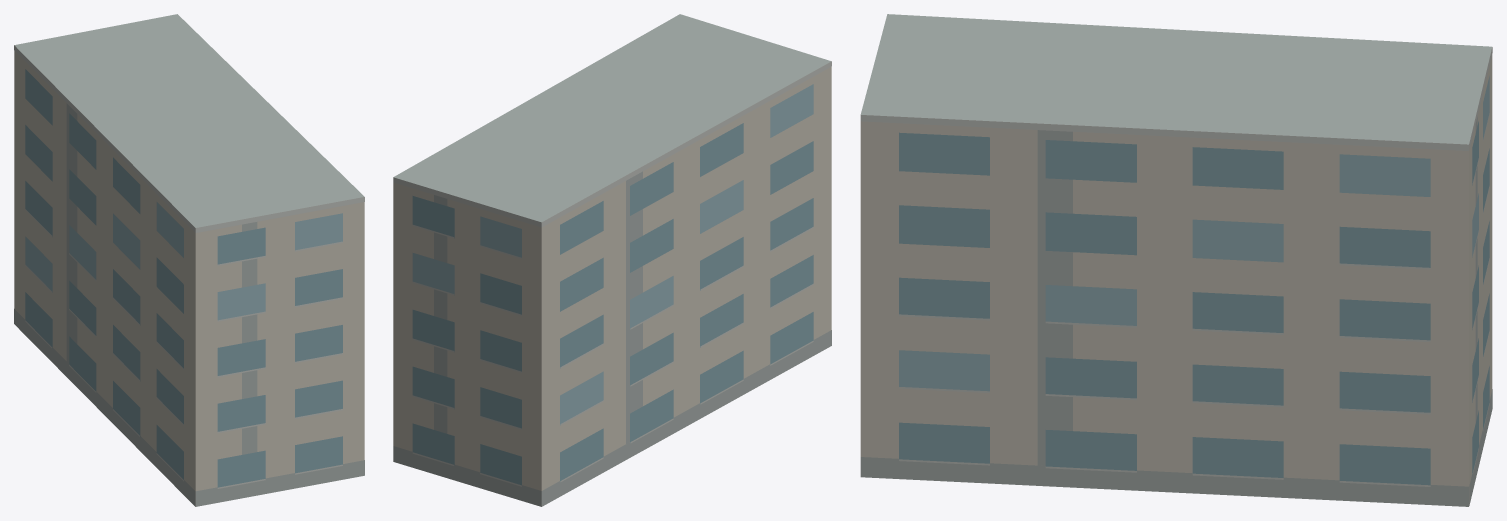
File: survey-upis-32567226.glb
3 views of the same model, side by side, from view 1: azimuth 30°, elevation 25°; view 2: azimuth 150°, elevation 25°; view 3: azimuth 270°, elevation 25° (orthographic). The views are drawn at different scales.
Visible parts, largest first — view 1: survey-upis-32567226.tmp; view 2: survey-upis-32567226.tmp; view 3: survey-upis-32567226.tmp.
Boxes of the visible parts, x1,y1,x2,y2 form: survey-upis-32567226.tmp: [14, 14, 364, 506]; survey-upis-32567226.tmp: [393, 14, 831, 506]; survey-upis-32567226.tmp: [860, 14, 1492, 506].
Size of the model in its own units: 10.36 by 13.4 by 21.19.
